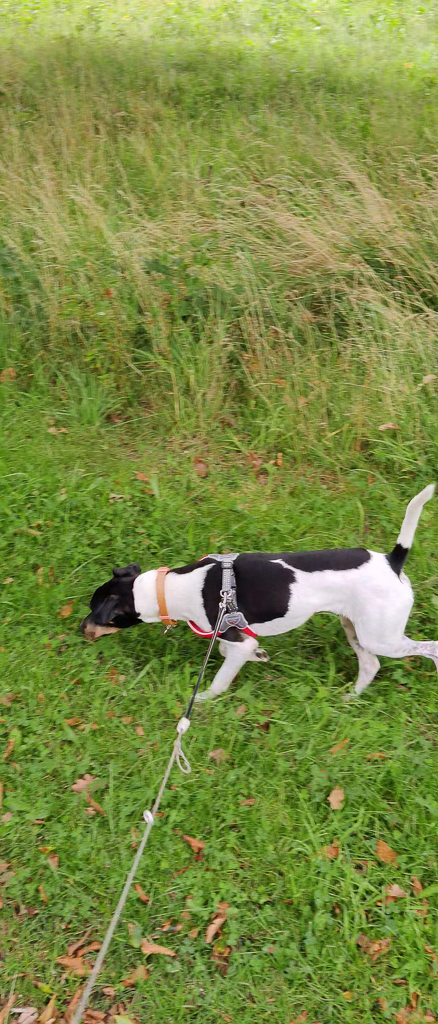Dog: (69, 469, 438, 724)
